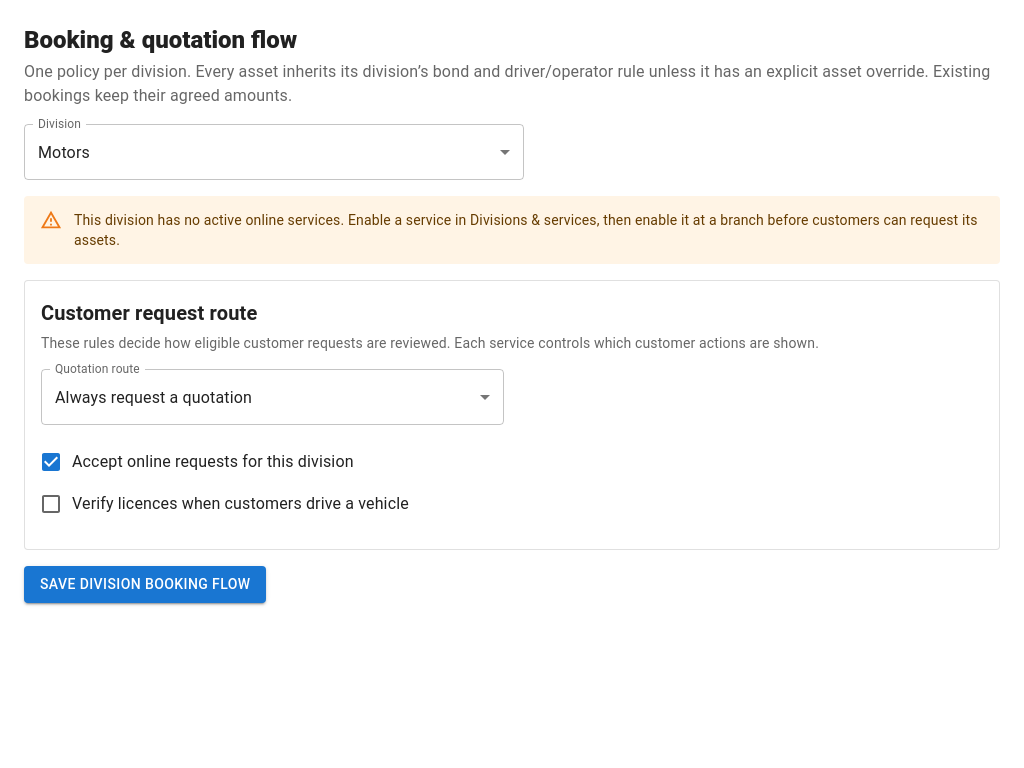
it: organization configuration writes › prevents an invalid inherited policy from being submitted
Click the button "Save division booking flow": click(145, 584) [24,566,266,603]
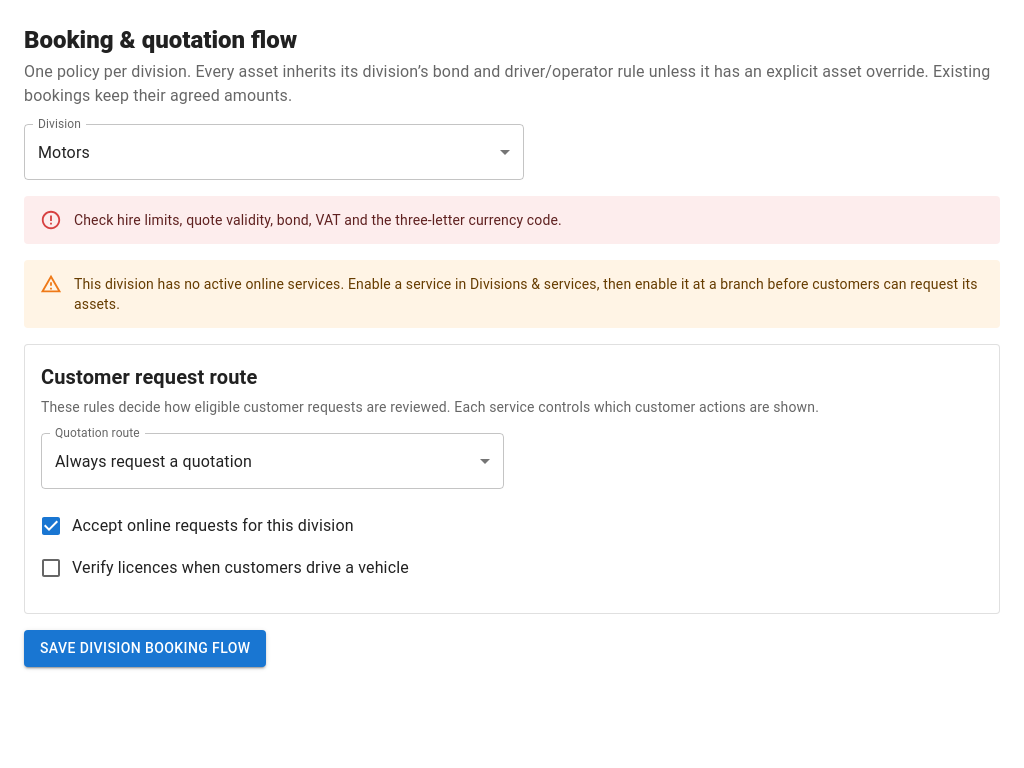
Expected: the text "Check hire limits, quote validity, bond, VAT and the three-letter currency code." is shown, [74,210,562,230]
